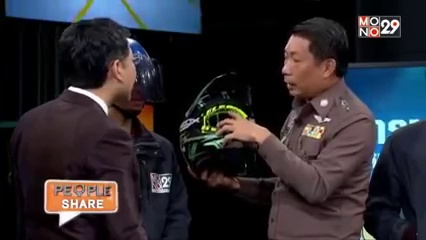helmet: (179, 86, 258, 180), (130, 34, 161, 91)
